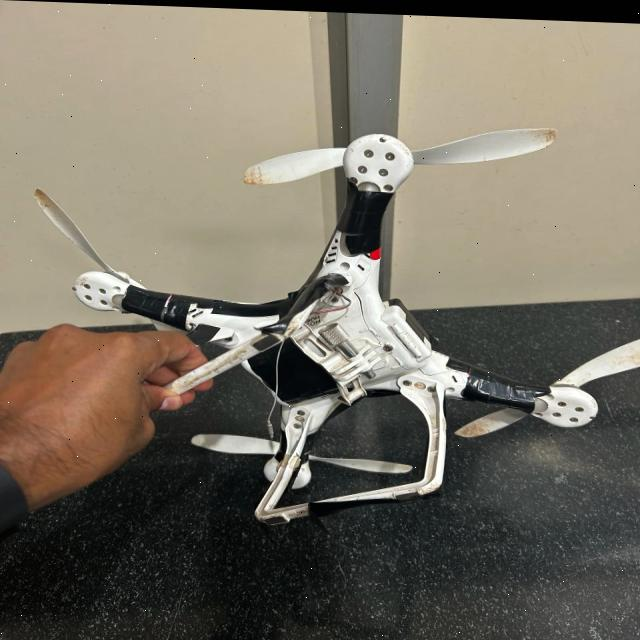drone: (40, 87, 640, 546)
